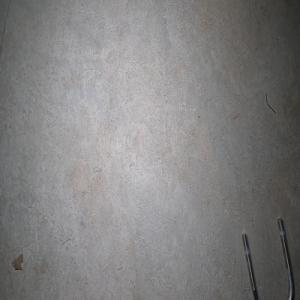ClampPart: (240, 216, 295, 300)
